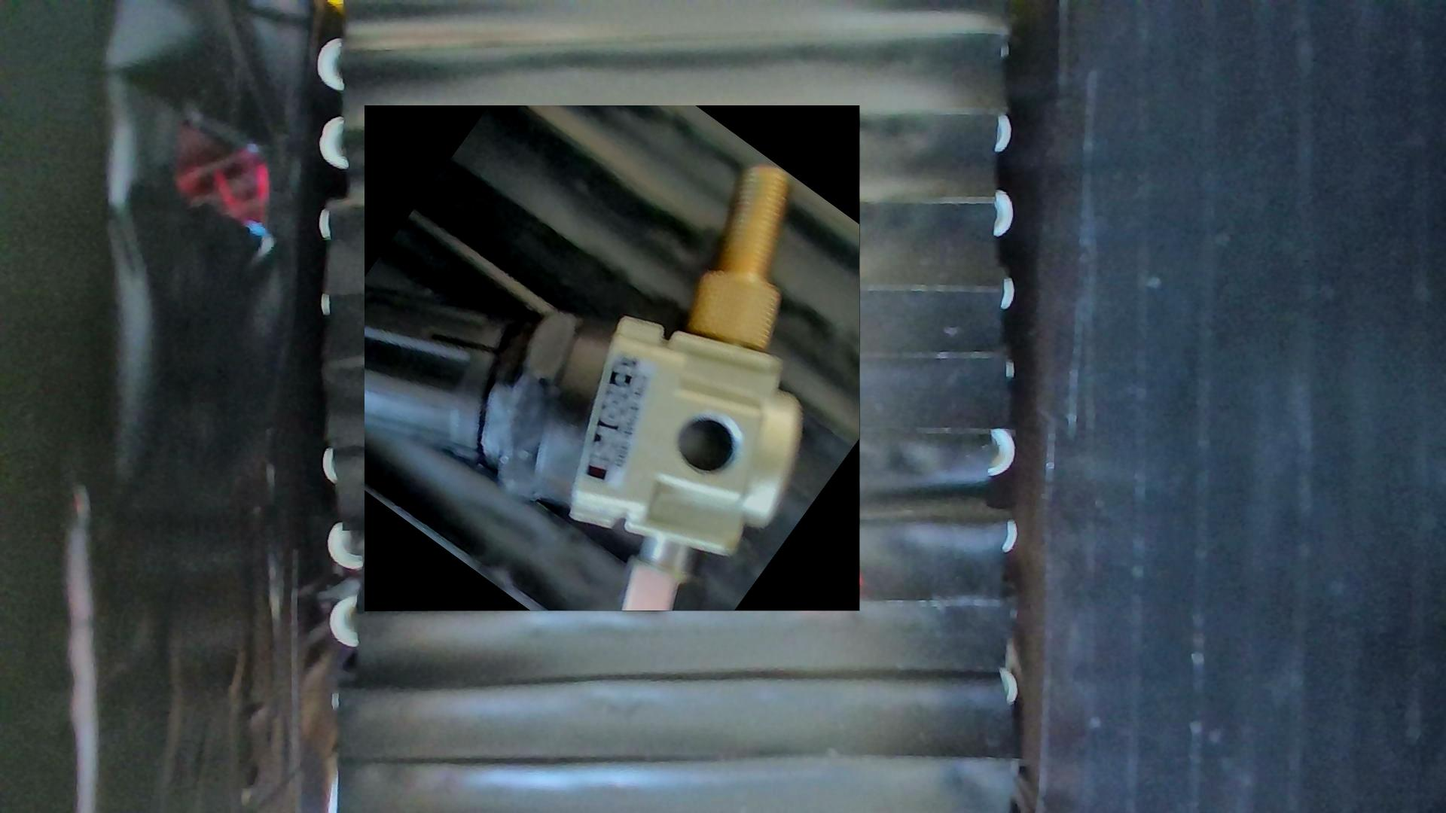regulator: (365, 106, 861, 612)
